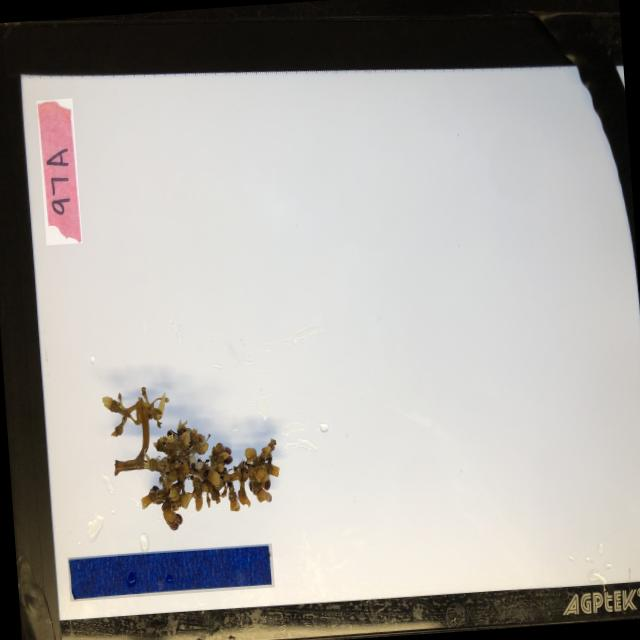index: (36, 97, 82, 244)
measure_label: (66, 542, 274, 600)
rachis_cluster: (96, 361, 284, 534)
